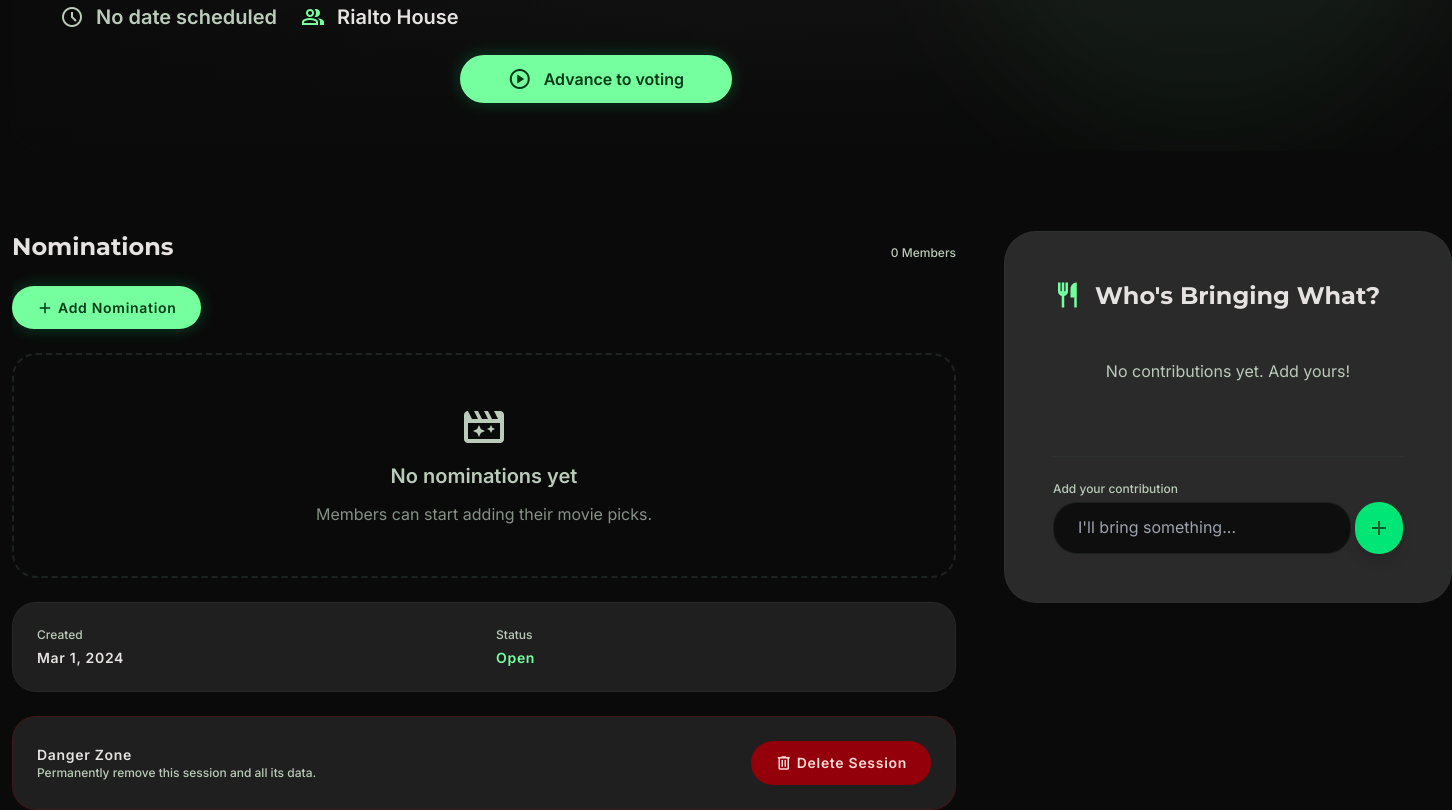
Test case: SessionPage › empty-state message disappears after the first contribution is added
(page scrolled)
In the field with placeholder "I'll bring something...": (1202, 528) x1=1053 y1=502 x2=1351 y2=554, type "Drinks"
Then press Enter
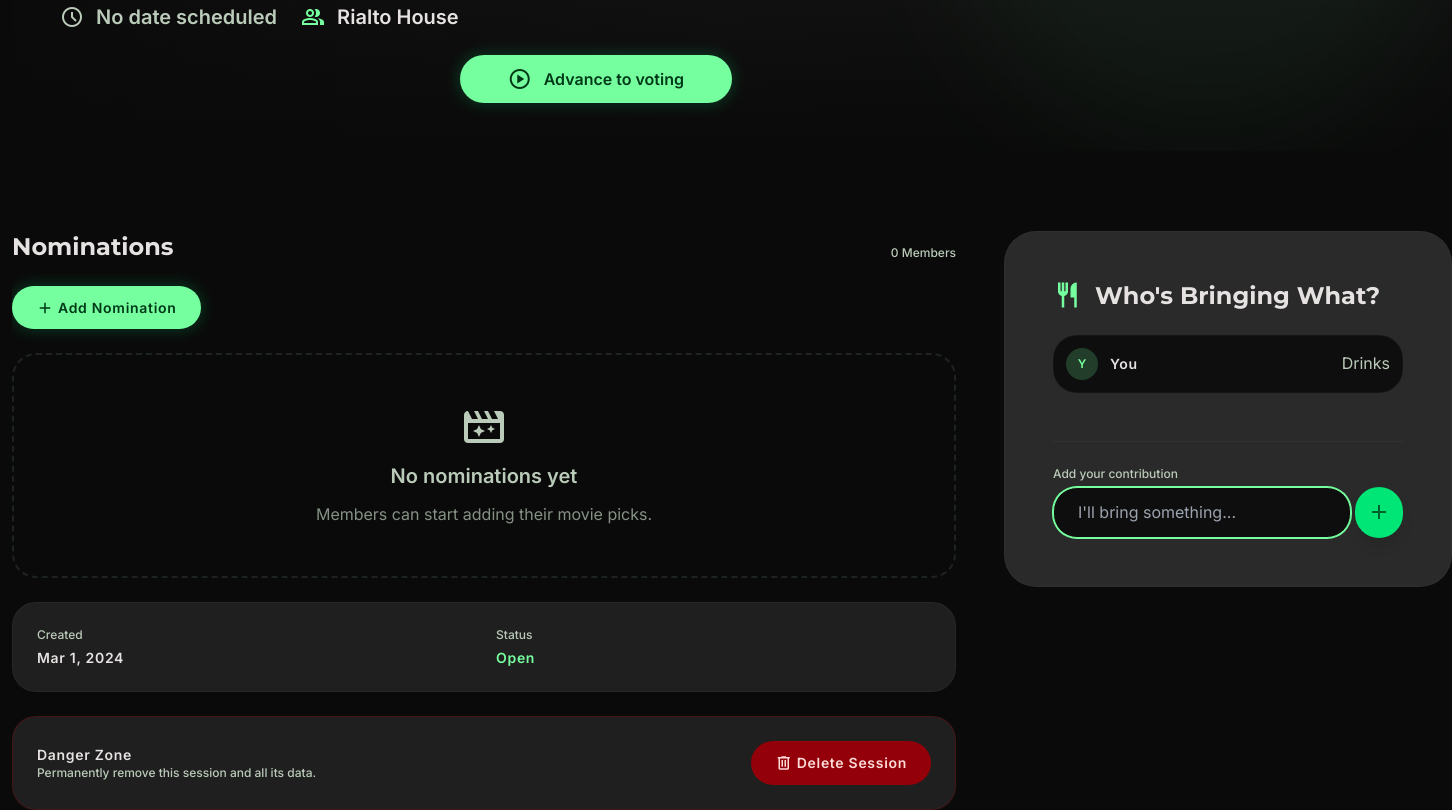
Expected: the list item "No contributions yet" is gone
